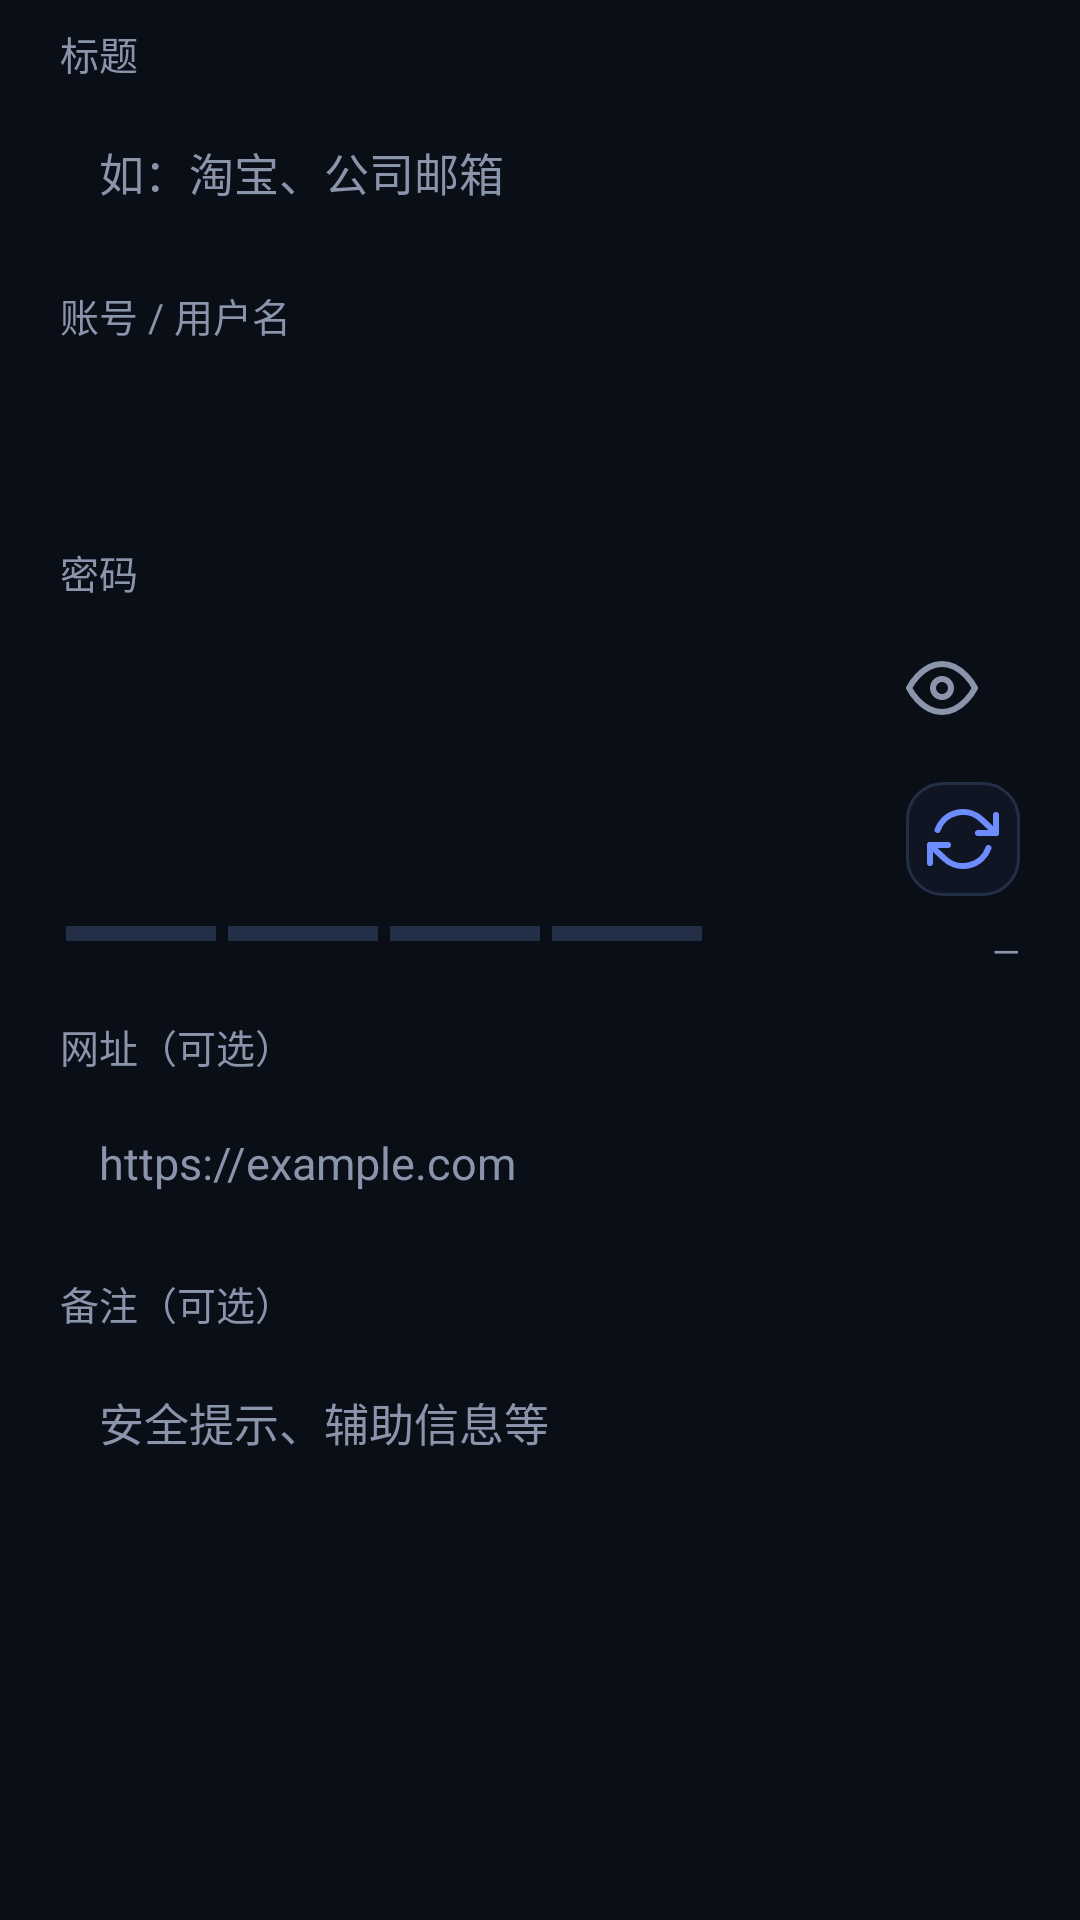

Screen size 1080*1920. Icon name, then its center in pixels as (x,y):
显示密码: (942,688)
随机生成: (963,839)
